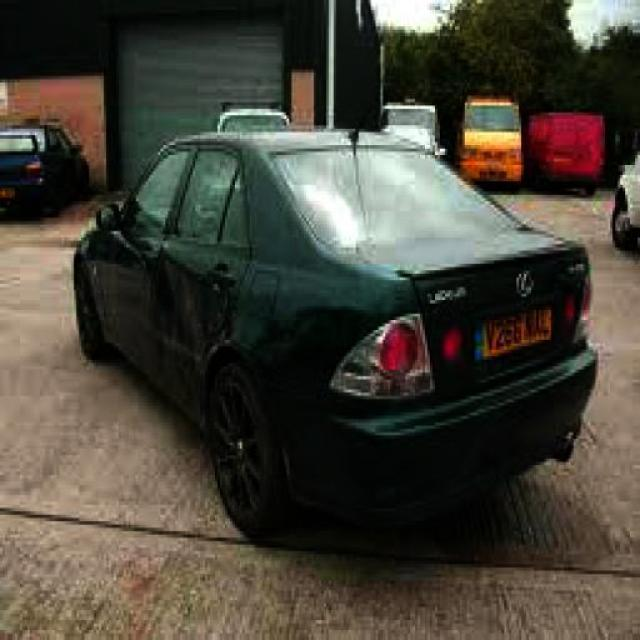car damage: (149, 251, 239, 427)
